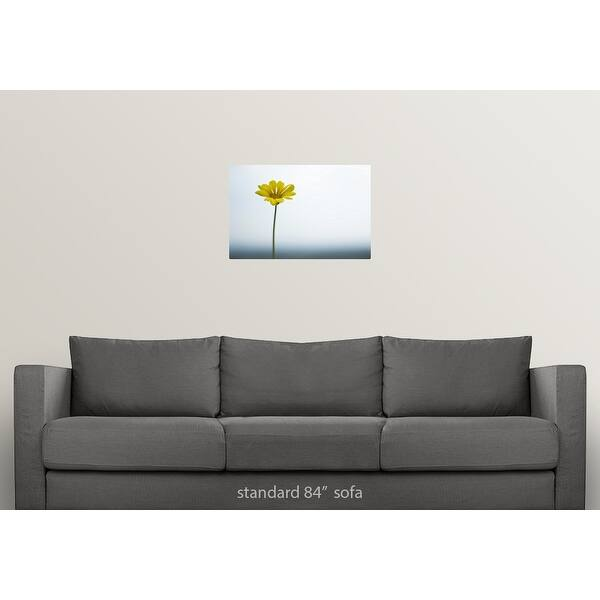dandelion: (258, 182, 294, 209)
